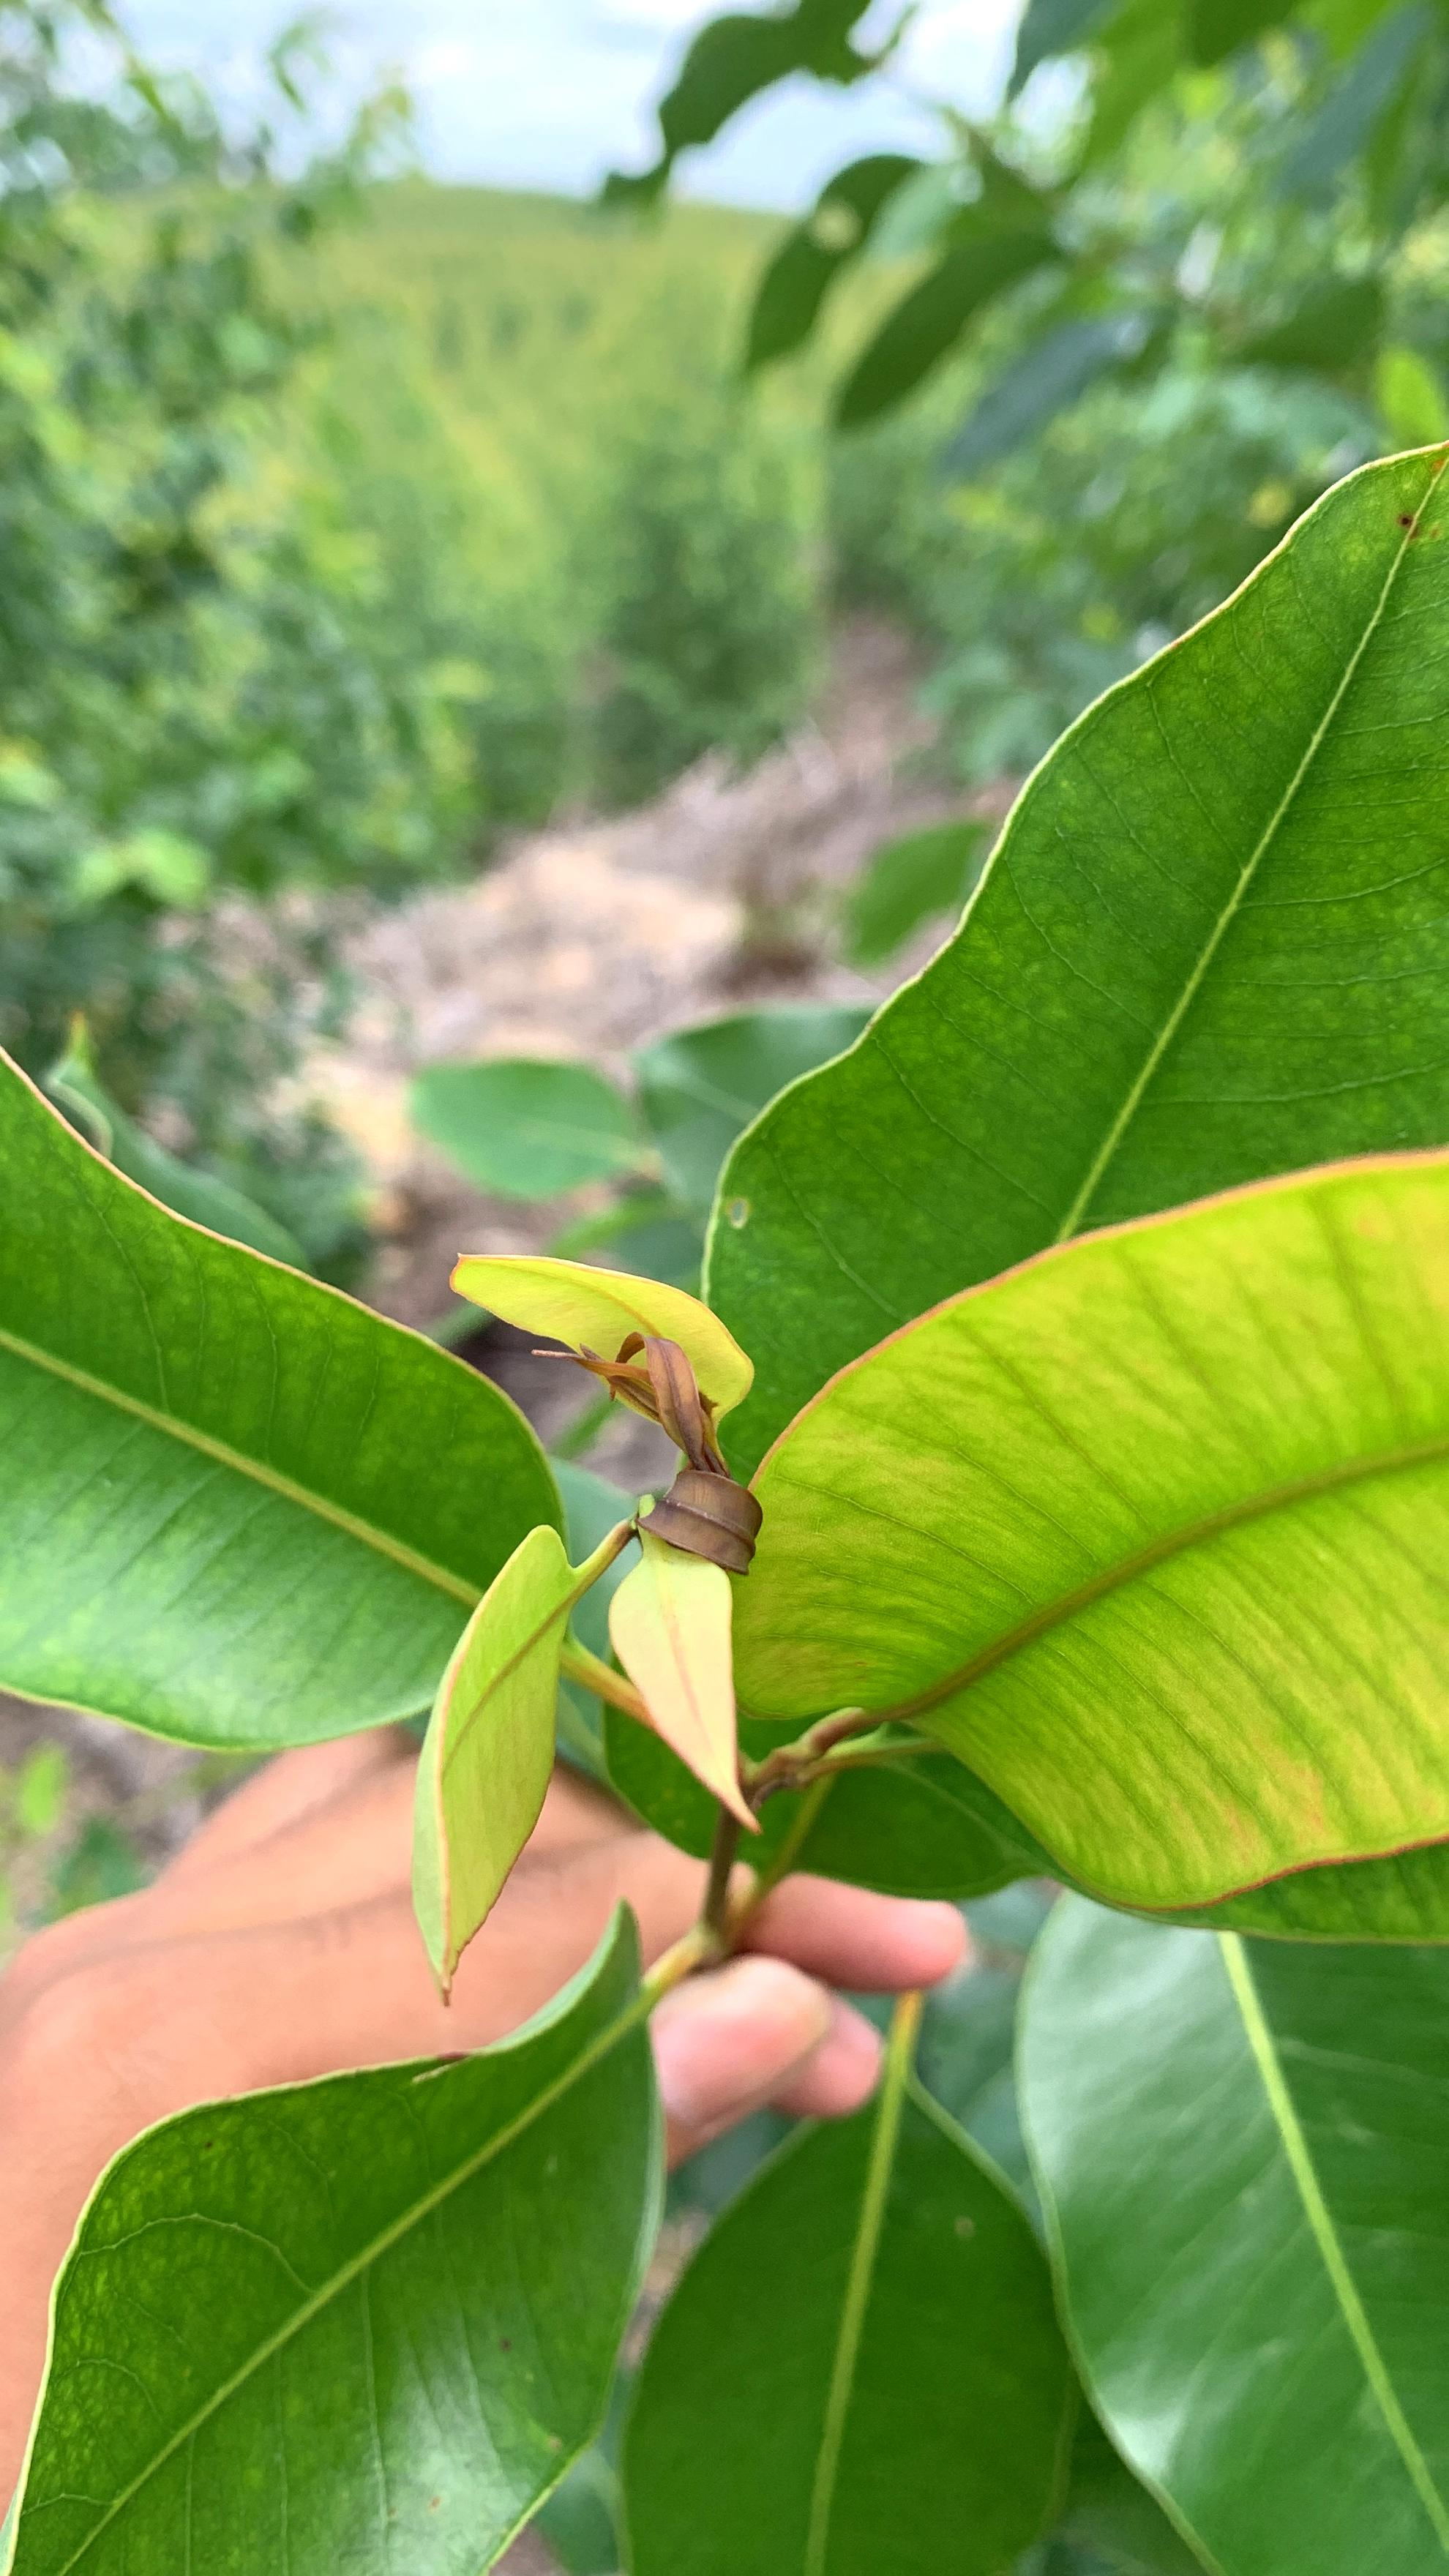Helopeltis-Withered Sprout: (547, 1282, 814, 1629)
